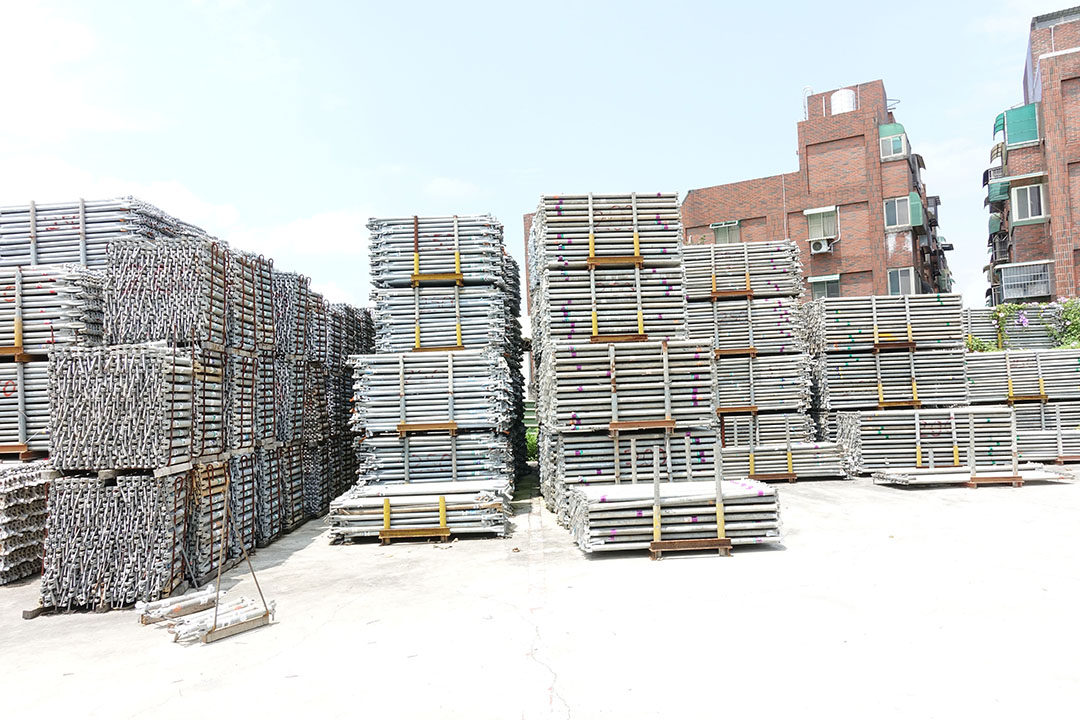building materials: (553, 343, 721, 436), (347, 354, 508, 436), (855, 408, 1015, 476), (539, 192, 681, 268), (540, 270, 686, 343), (365, 211, 501, 286), (366, 288, 500, 351), (820, 293, 965, 351), (823, 353, 968, 409), (682, 240, 804, 301), (686, 300, 808, 357)
